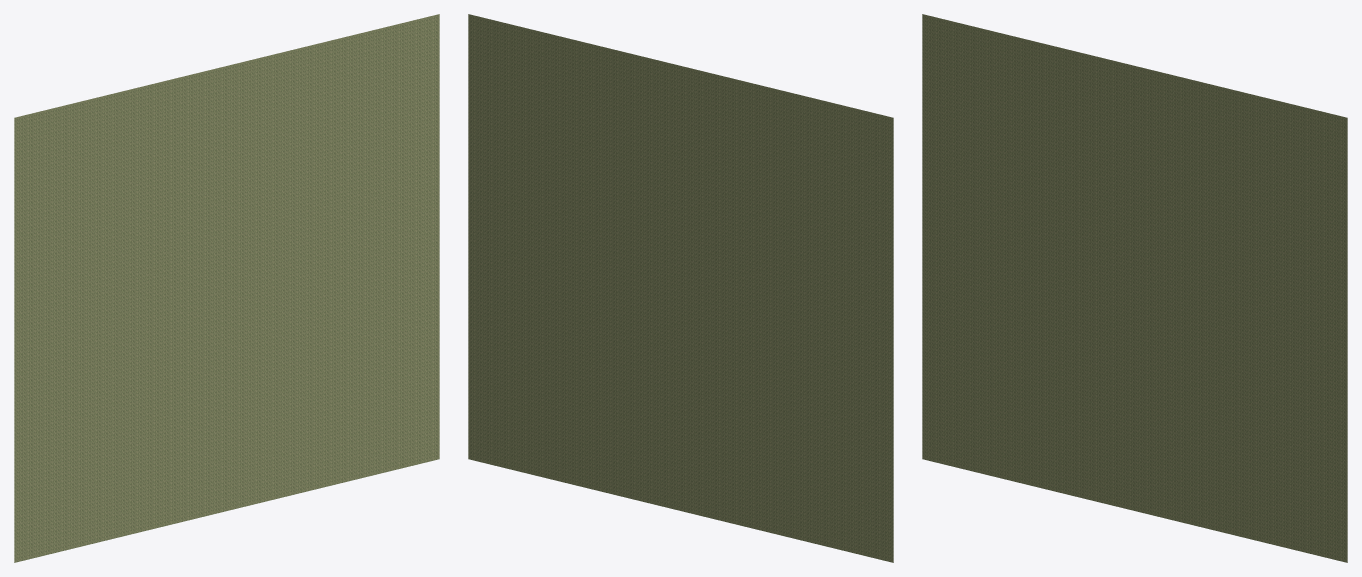
The model's file is ground.obj.
3 views of the same model, side by side, from view 1: azimuth 30°, elevation 25°; view 2: azimuth 150°, elevation 25°; view 3: azimuth 330°, elevation 25° (orthographic).
Bounding box in the file's own units: 4000 × 4000 × 0.
Materials: 1 (1 with a texture image).
